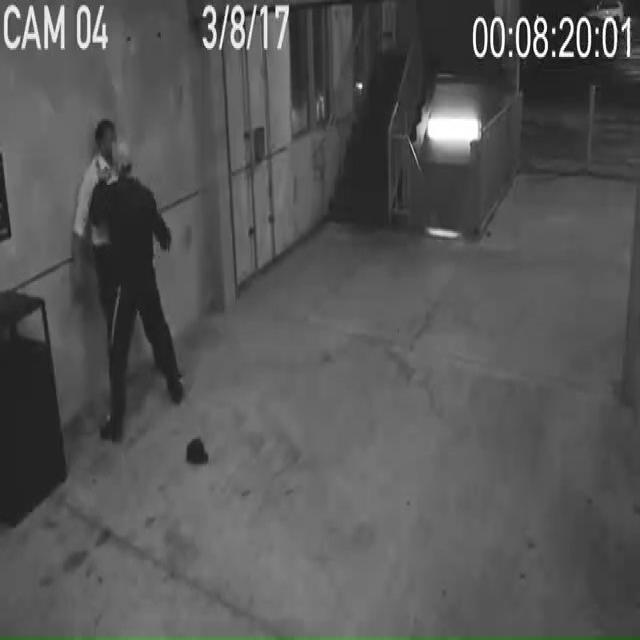fight: (71, 114, 184, 445)
